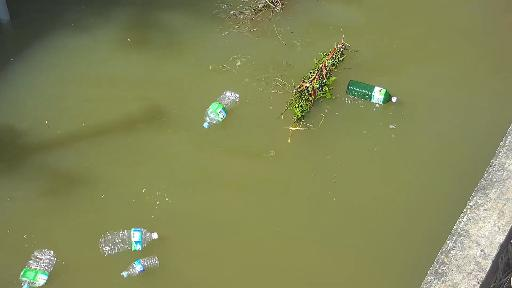plastic: (14, 250, 57, 285), (94, 229, 166, 249), (202, 91, 243, 122), (349, 80, 397, 104), (115, 258, 163, 274)
twig: (273, 29, 358, 126), (221, 0, 325, 33)
